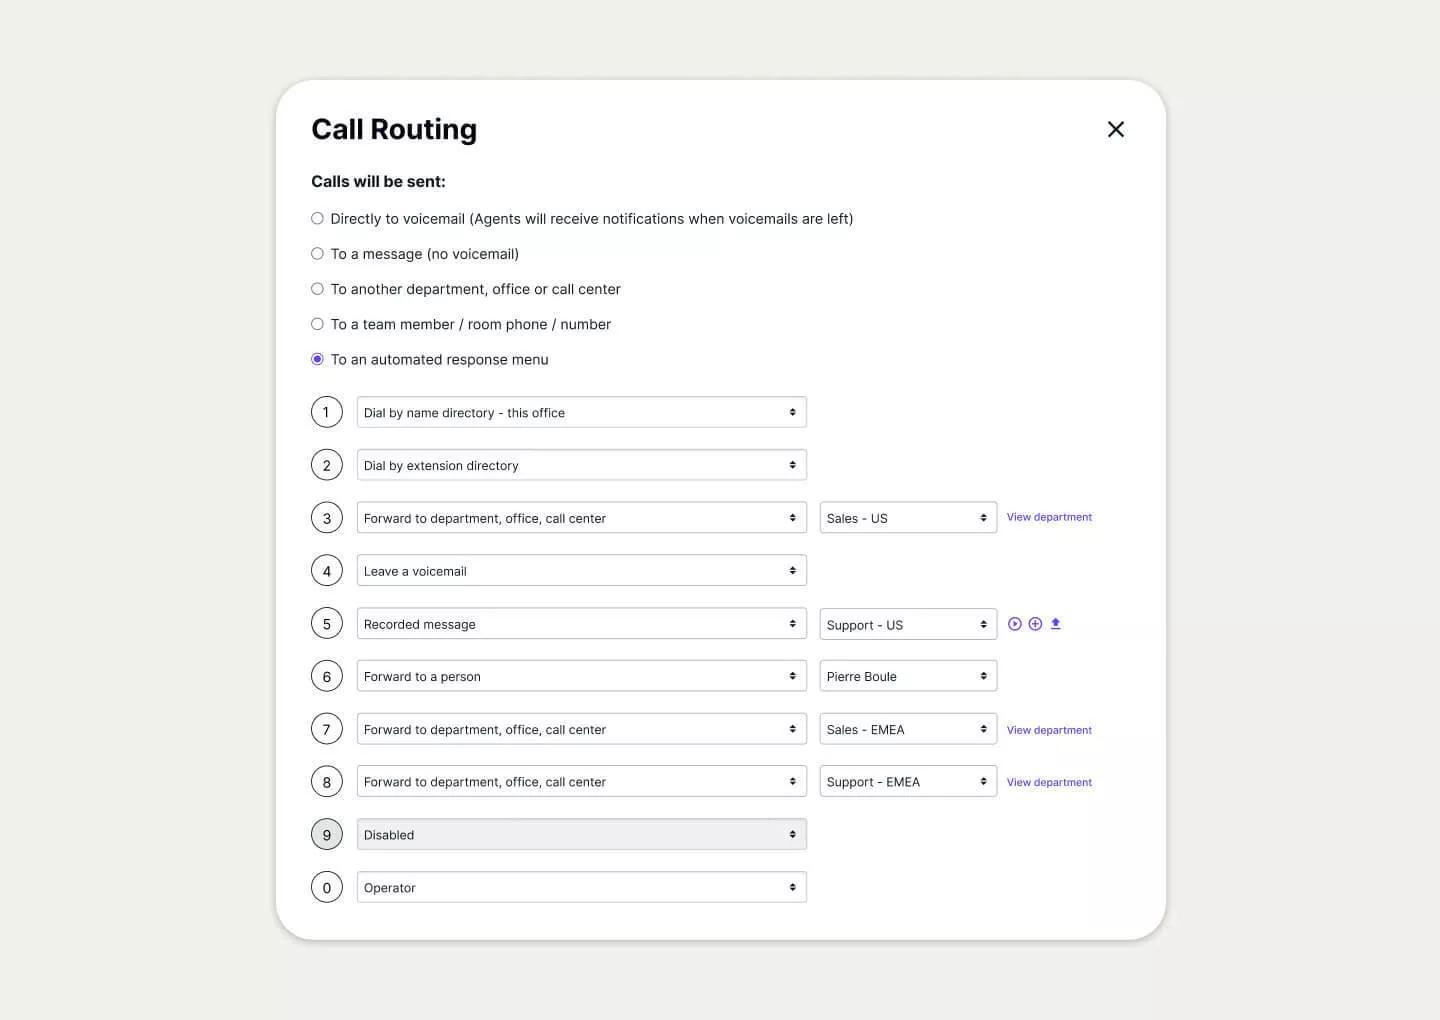dropdown: (356, 764, 810, 800), (356, 659, 810, 694), (356, 712, 809, 747), (358, 553, 809, 588), (358, 606, 809, 641), (358, 818, 809, 853), (356, 870, 809, 904), (358, 396, 809, 431), (358, 501, 809, 535), (358, 450, 809, 484), (819, 659, 1000, 693), (819, 765, 999, 799), (820, 713, 999, 747), (821, 501, 998, 534), (821, 610, 998, 642)
icon: (1107, 120, 1126, 140), (1007, 618, 1022, 633), (1050, 616, 1063, 633), (1030, 618, 1043, 631)
label: (330, 211, 856, 229), (309, 117, 482, 149), (328, 283, 625, 300), (329, 316, 614, 333), (330, 247, 522, 265), (330, 353, 551, 368), (312, 171, 448, 193), (1006, 776, 1094, 791), (1007, 723, 1094, 739), (1006, 512, 1094, 524)
radio: (310, 212, 327, 227), (310, 317, 326, 332), (310, 281, 326, 296), (311, 352, 326, 366), (311, 248, 326, 261)
